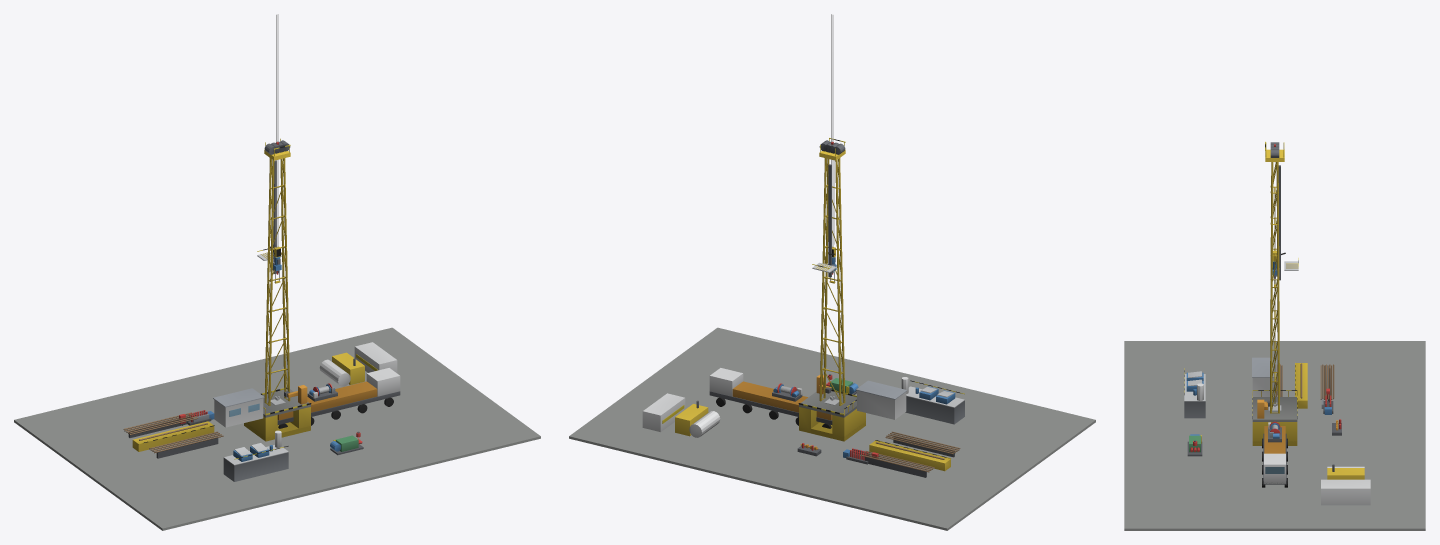
File: workover_med.glb
3 renders of one model, left to right at view 1: azimuth 30°, elevation 25°; view 2: azimuth 150°, elevation 25°; view 3: azimuth 270°, elevation 25°, orthographic.
Visible parts, largest first — view 1: site__pad, mast__mast, carrier__truck, pipehandling__racker, mast__doghouse, mudtanks__tanks, mast__substructure, pipehandling__catwalk, generators__vfd, mast__floor, block__travelling, generators__gensets; view 2: site__pad, mast__mast, carrier__truck, pipehandling__racker, mast__doghouse, mast__substructure, mudtanks__tanks, generators__vfd, pipehandling__catwalk, mast__floor, generators__gensets; view 3: site__pad, mast__mast, generators__vfd, carrier__truck, mast__floor, mast__doghouse, mudtanks__tanks, pipehandling__racker, mast__substructure, pipehandling__catwalk, generators__gensets.
Part boxes in pixels (bbox=[...]): site__pad: bbox=[14, 327, 540, 530]; mast__mast: bbox=[264, 158, 290, 405]; carrier__truck: bbox=[277, 368, 400, 428]; pipehandling__racker: bbox=[123, 412, 223, 458]; mast__doghouse: bbox=[213, 388, 264, 427]; mudtanks__tanks: bbox=[223, 445, 288, 481]; mast__substructure: bbox=[244, 407, 310, 441]; pipehandling__catwalk: bbox=[132, 421, 214, 451]; generators__vfd: bbox=[354, 342, 397, 372]; mast__floor: bbox=[261, 387, 311, 417]; block__travelling: bbox=[274, 14, 280, 257]; generators__gensets: bbox=[332, 352, 364, 384]; site__pad: bbox=[569, 327, 1095, 530]; mast__mast: bbox=[819, 158, 845, 405]; carrier__truck: bbox=[709, 368, 832, 428]; pipehandling__racker: bbox=[860, 431, 960, 477]; mast__doghouse: bbox=[856, 380, 907, 419]; mast__substructure: bbox=[799, 407, 865, 441]; mudtanks__tanks: bbox=[905, 380, 964, 424]; generators__vfd: bbox=[642, 393, 685, 432]; pipehandling__catwalk: bbox=[869, 440, 951, 471]; mast__floor: bbox=[798, 389, 856, 417]; generators__gensets: bbox=[675, 400, 708, 436]; site__pad: bbox=[1124, 341, 1425, 530]; mast__mast: bbox=[1270, 162, 1279, 413]; generators__vfd: bbox=[1321, 479, 1370, 505]; carrier__truck: bbox=[1262, 426, 1287, 487]; mast__floor: bbox=[1252, 390, 1297, 421]; mast__doghouse: bbox=[1252, 357, 1276, 396]; mudtanks__tanks: bbox=[1184, 368, 1205, 418]; pipehandling__racker: bbox=[1276, 364, 1334, 402]; mast__substructure: bbox=[1252, 422, 1297, 445]; pipehandling__catwalk: bbox=[1295, 363, 1307, 408]; generators__gensets: bbox=[1327, 464, 1364, 479].
Size of the model in its own units: 50 by 53.07 by 34.
